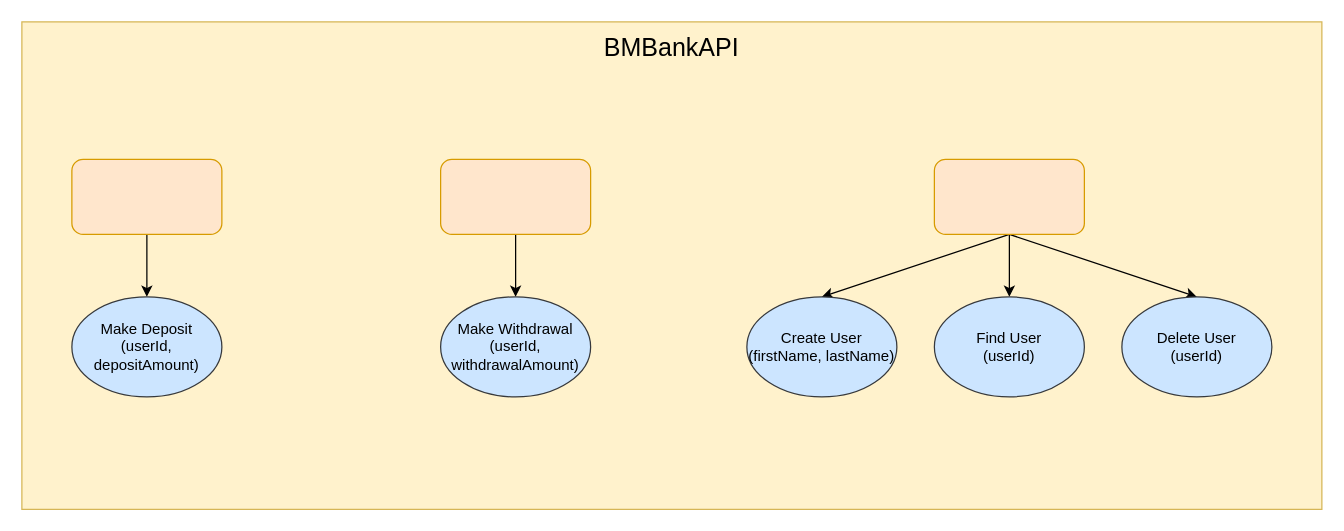
This 1344x531 diagram has some shape labels left out. Here are the shapes that lost their labels. From the top down, the box of each, then its label:
(71, 158, 222, 234): Deposit Service
(439, 158, 591, 234): Withdrawal Service
(933, 158, 1084, 234): User Service
